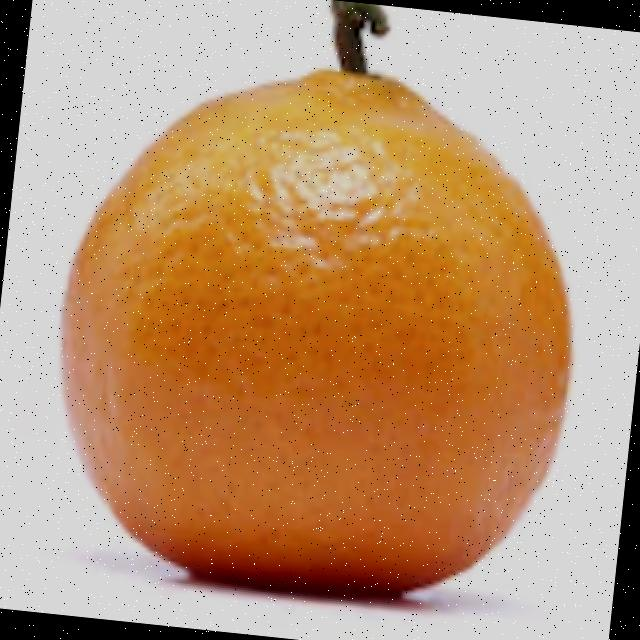orange: (32, 40, 604, 624)
